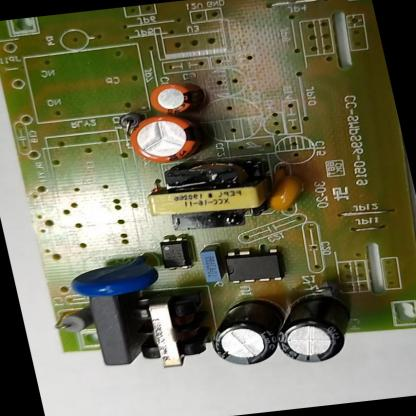Cap1: (125, 114, 206, 166)
Cap2: (145, 81, 205, 116)
Cap3: (202, 295, 286, 370)
Cap4: (268, 294, 359, 367)
MOSFET: (220, 245, 287, 287)
Mov: (64, 251, 166, 300)
Resistor: (49, 304, 97, 336)
Transformer: (138, 154, 280, 236), (127, 288, 215, 370)
